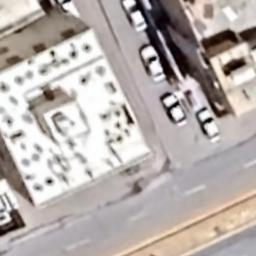sedan: (122, 0, 149, 36), (140, 44, 167, 80), (194, 110, 224, 142), (158, 94, 187, 124)
